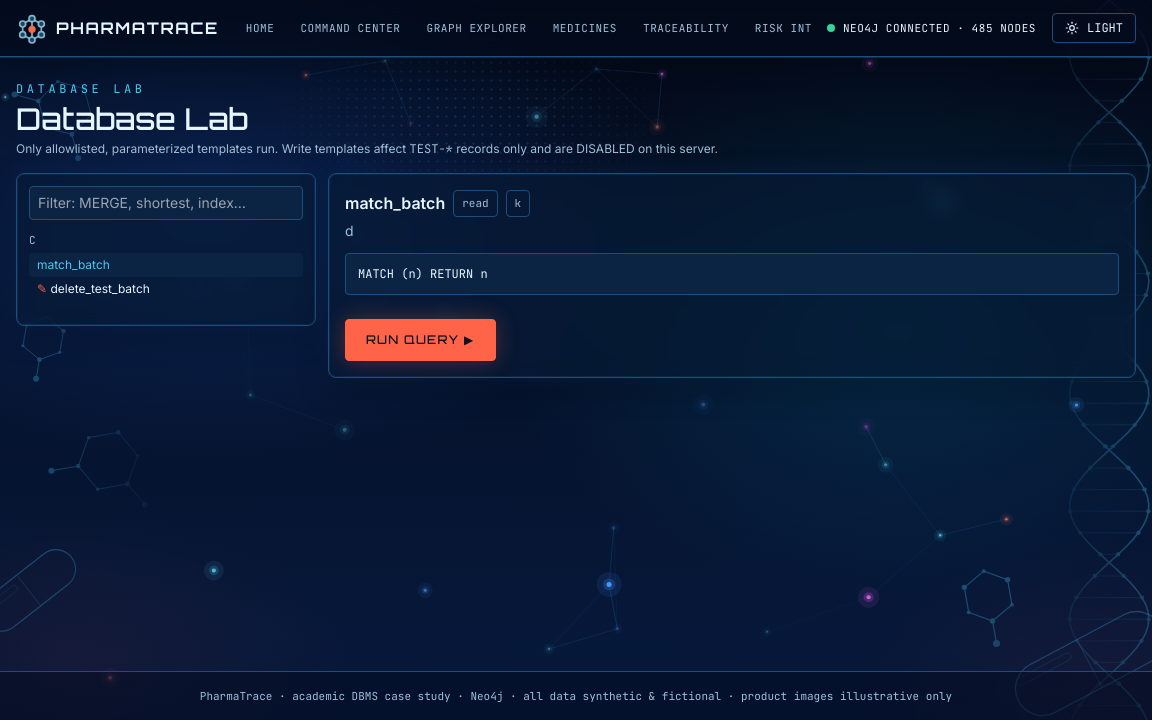
phase 3 pages › database lab: lists templates and blocks write templates when disabled
Click the button "✎ delete_test_batch" at {"x": 100, "y": 288}, box [29, 276, 303, 300]
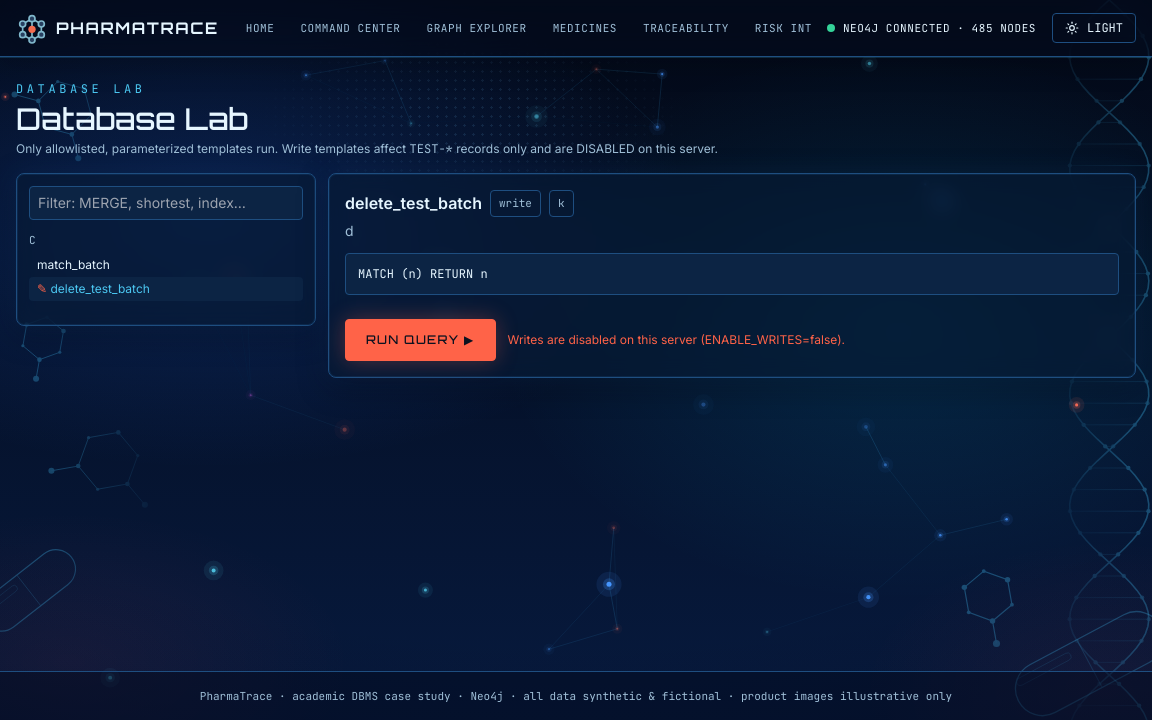
Expected: the button "RUN QUERY ▶" is disabled, [345, 318, 496, 360]
Now the text "Writes are disabled on this server (ENABLE_WRITES=false)." is shown, box [508, 332, 845, 348]
